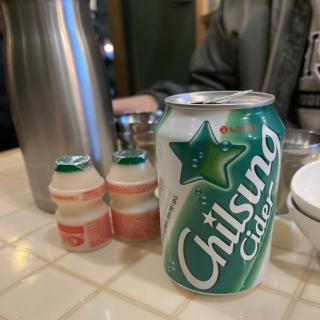cocacola: (154, 88, 286, 297)
